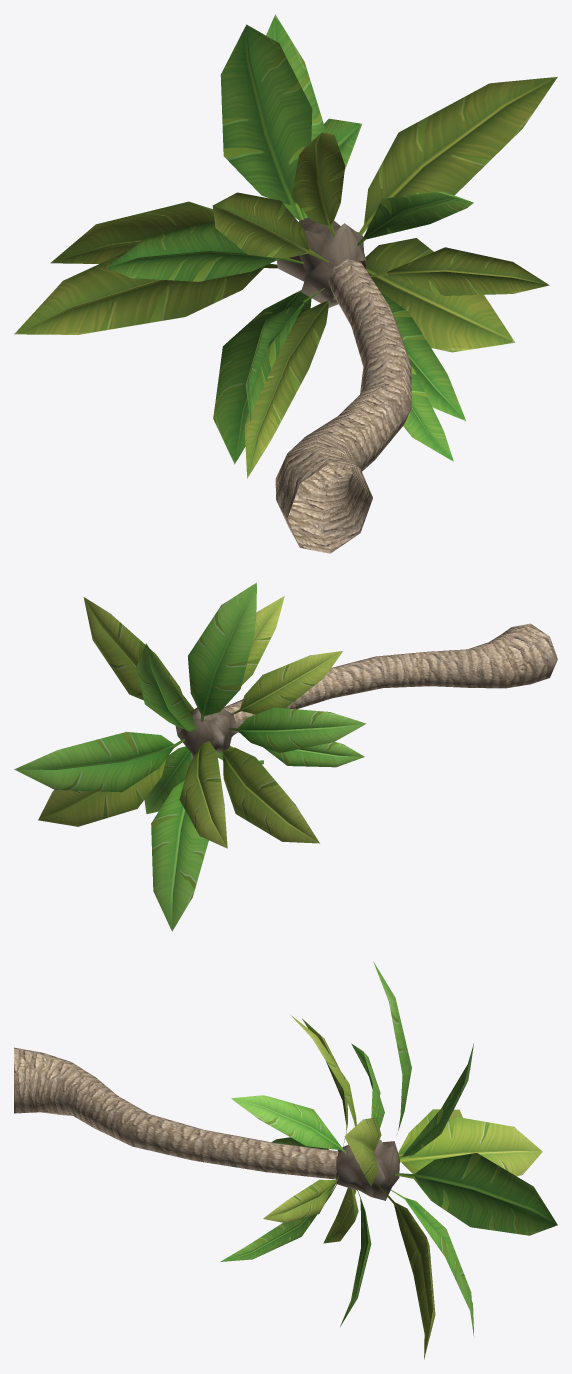
Rendered from Palmtree_Bend_A.fbx.
3 views of the same model, one above another, from view 1: azimuth 30°, elevation 25°; view 2: azimuth 150°, elevation 25°; view 3: azimuth 270°, elevation 25° (orthographic). The views are drawn at different scales.
Visible parts, largest first — view 1: Palmtree_Bend_A; view 2: Palmtree_Bend_A; view 3: Palmtree_Bend_A.
Part boxes in pixels (x1,y1,x2,y2): Palmtree_Bend_A: (14, 14, 557, 553); Palmtree_Bend_A: (14, 582, 557, 931); Palmtree_Bend_A: (14, 961, 557, 1359).
Bounding box in the file's own units: 7.82 × 7.29 × 10.09.
